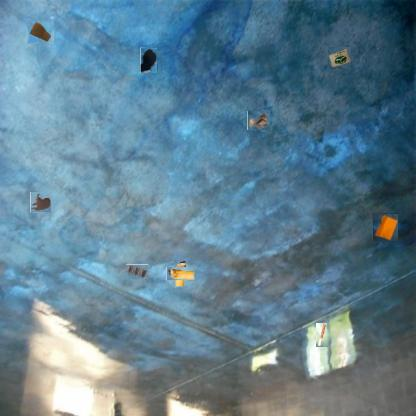dirty: (372, 213, 398, 241), (29, 20, 54, 44), (328, 46, 350, 70), (247, 110, 270, 131), (170, 263, 192, 284), (126, 264, 148, 279), (316, 323, 328, 347)
liquid: (140, 48, 157, 74), (31, 192, 51, 213)
